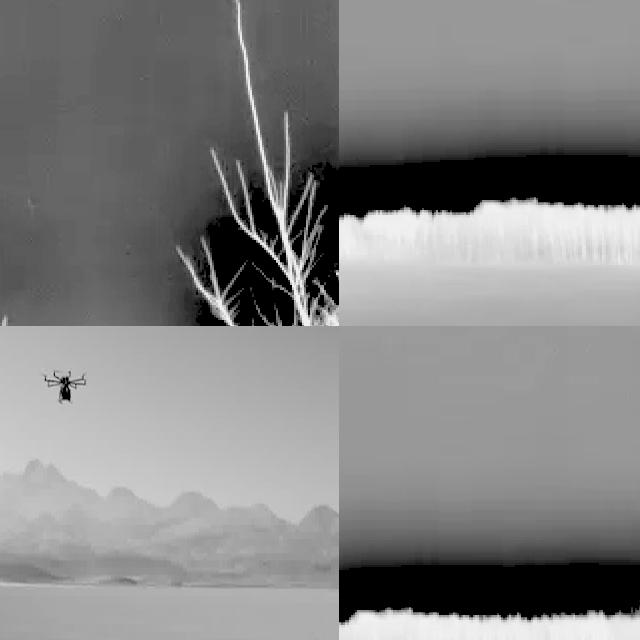0: (14, 191, 42, 221)
drone: (41, 363, 88, 414)
